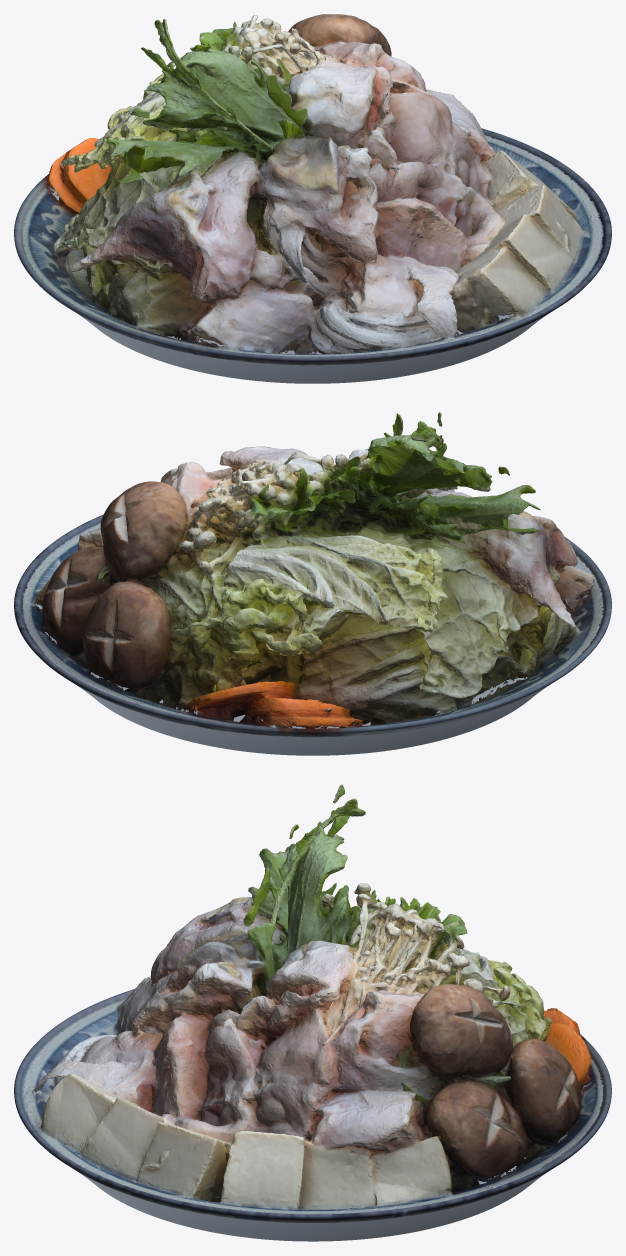
Rendered from model-color-20261030-v003.glb.
The picture shows the model from 3 angles, top to bottom: view 1: azimuth 30°, elevation 25°; view 2: azimuth 150°, elevation 25°; view 3: azimuth 270°, elevation 25°; orthographic projection.
Parts seen in each view (by area): view 1: Food, Plate; view 2: Food, Plate; view 3: Food, Plate.
Part boxes in pixels (x1=…): Food: x1=22, y1=14, x2=603, y2=356; Plate: x1=14, y1=128, x2=611, y2=383; Food: x1=22, y1=412, x2=603, y2=728; Plate: x1=14, y1=514, x2=611, y2=755; Food: x1=22, y1=784, x2=603, y2=1214; Plate: x1=14, y1=989, x2=611, y2=1241.
Size of the model in its own units: 0.2529 by 0.133 by 0.2529.
3 materials, 2 textured.
